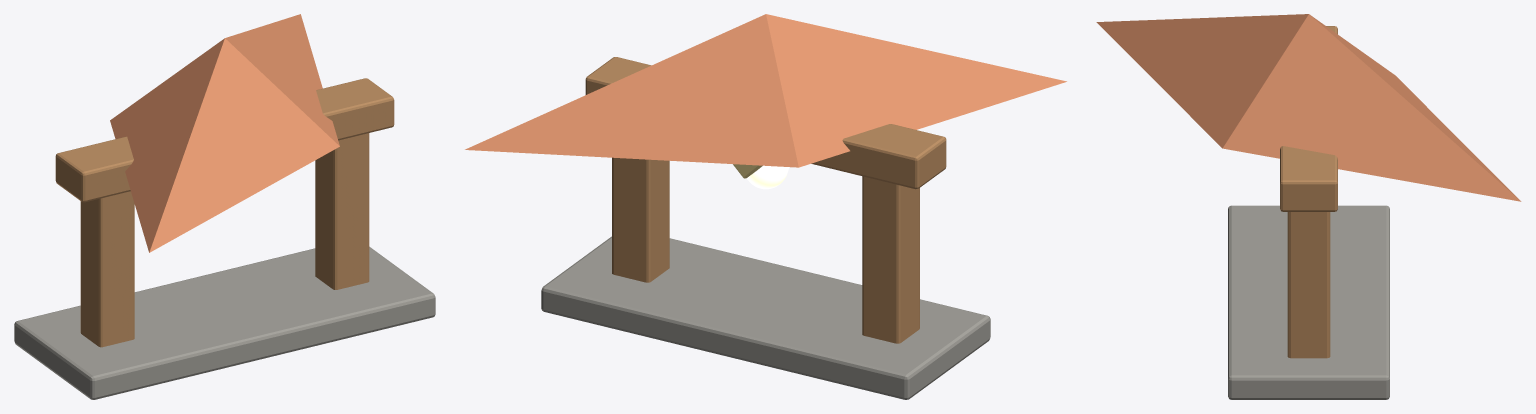
File: prop_galpao.glb
The picture shows the model from 3 angles, left to right: view 1: azimuth 30°, elevation 25°; view 2: azimuth 150°, elevation 25°; view 3: azimuth 270°, elevation 25°; orthographic projection. The views are drawn at different scales.
Visible parts, largest first — view 1: Plinth, GalpaoRoofMesh, PillarL, PillarR, Beam; view 2: GalpaoRoofMesh, Plinth, PillarL, PillarR, Beam, Lantern; view 3: GalpaoRoofMesh, Plinth, PillarR, Beam.
Boxes of the visible parts, <box> form: Plinth: <box>14,246,435,399</box>; GalpaoRoofMesh: <box>110,14,339,252</box>; PillarL: <box>80,191,134,347</box>; PillarR: <box>315,133,369,289</box>; Beam: <box>55,78,394,202</box>; GalpaoRoofMesh: <box>465,14,1066,167</box>; Plinth: <box>541,236,990,399</box>; PillarL: <box>862,176,919,343</box>; PillarR: <box>612,157,669,282</box>; Beam: <box>585,57,946,189</box>; Lantern: <box>746,165,788,189</box>; GalpaoRoofMesh: <box>1096,14,1521,201</box>; Plinth: <box>1228,205,1389,399</box>; PillarR: <box>1287,212,1330,358</box>; Beam: <box>1280,26,1337,211</box>.
Size of the model in its own units: 1.1 by 0.86 by 1.1.
